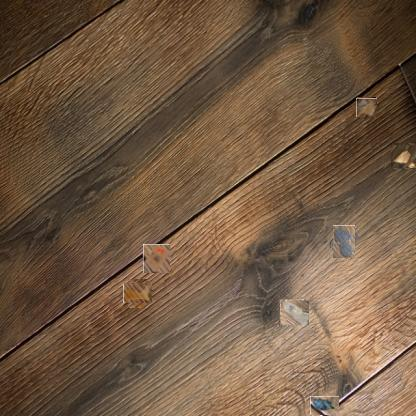dirty: (143, 244, 170, 273), (280, 300, 310, 326), (391, 143, 416, 168), (310, 396, 339, 415), (356, 97, 377, 118)
liquid: (331, 228, 358, 256), (126, 281, 150, 306)
